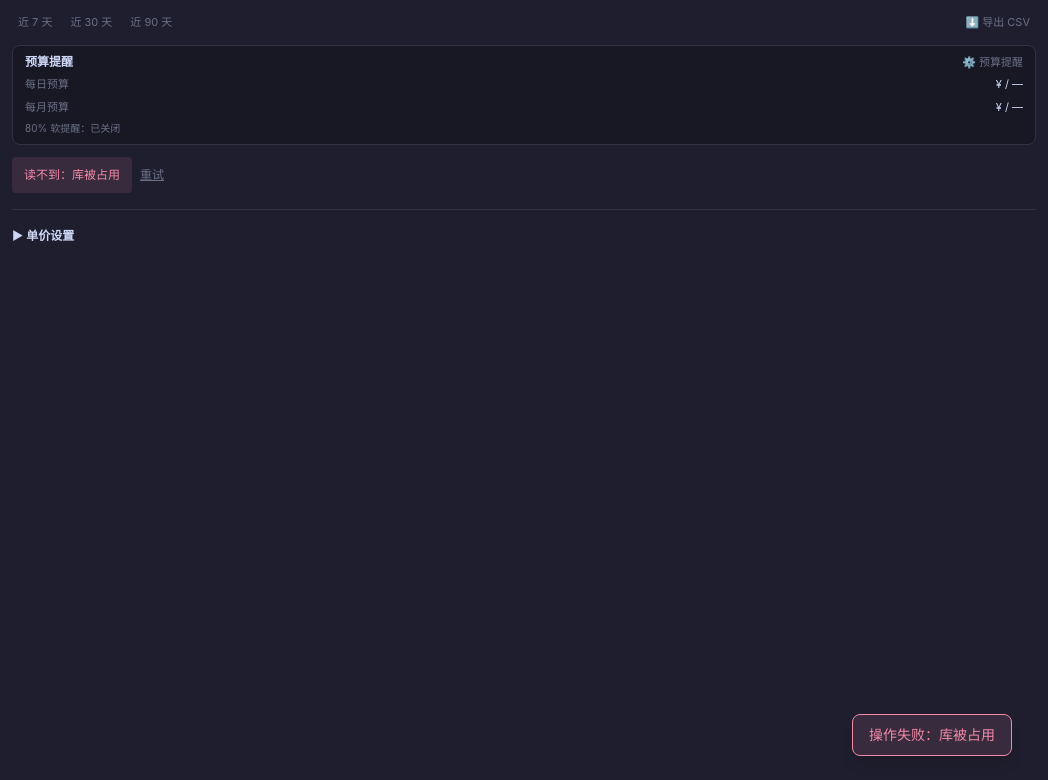
用量汇总：首读就失败 ⇒ 那颗 `usage-summary-stale-retry` 不在屏上，这一支补自己的键 › 失败脸有键、按下去真再发一发、到货后那句收回且数字上屏；切日窗不会让它多发
切窗改的是 days ⇒ effect 会重读：这颗键守的是"按下去多发一发"，不是"只有它能多发"
Click the button "近 7 天". click: [35, 22]
box: [12, 12, 58, 32]
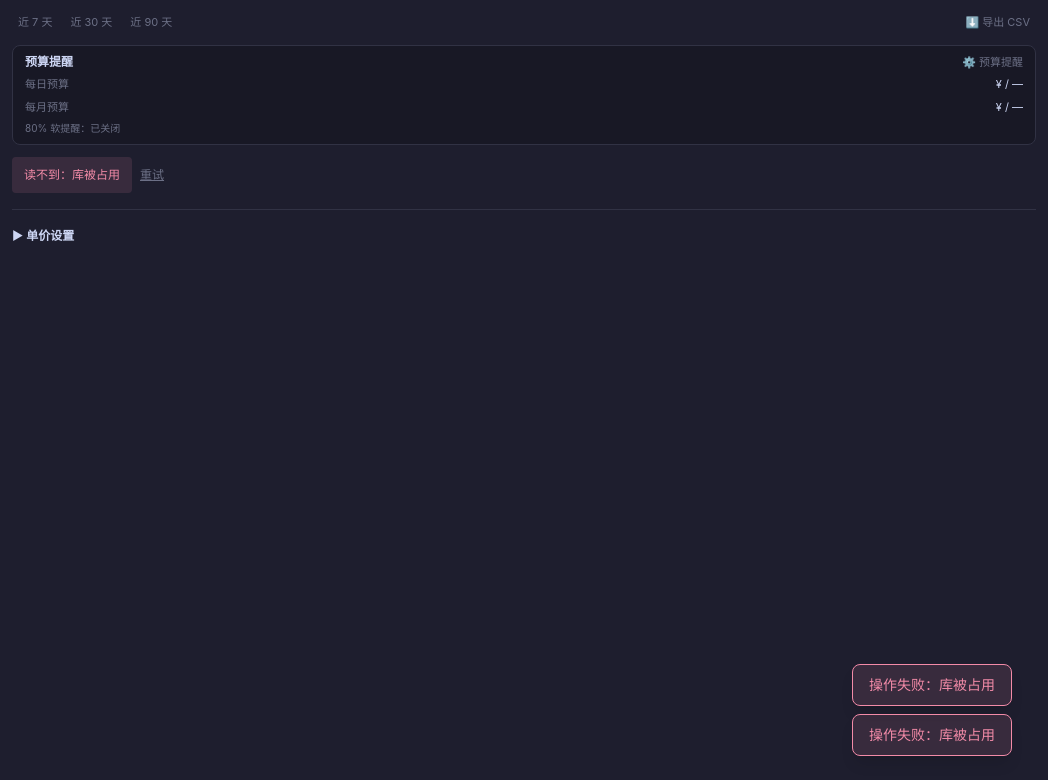
Click the button with test id "usage-summary-read-retry". click: [152, 175]
box: [140, 167, 164, 183]
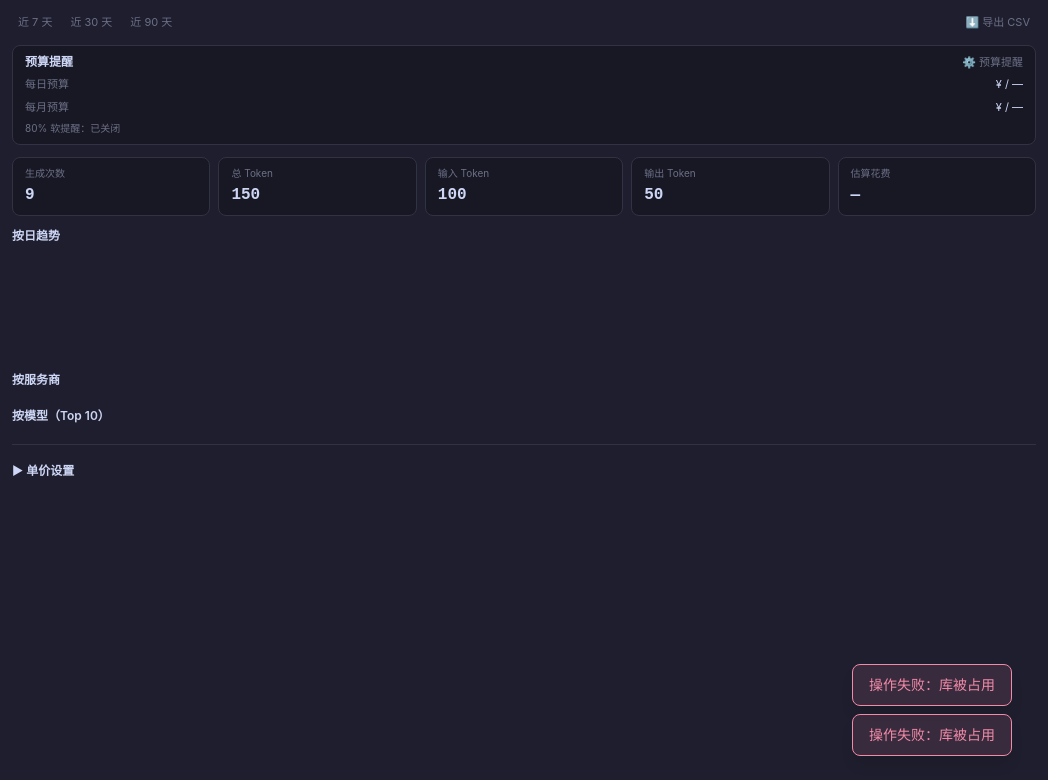
Expected: the button with test id "usage-summary-read-retry" is gone
Expected: the text "9" is shown, [25, 186, 35, 204]
